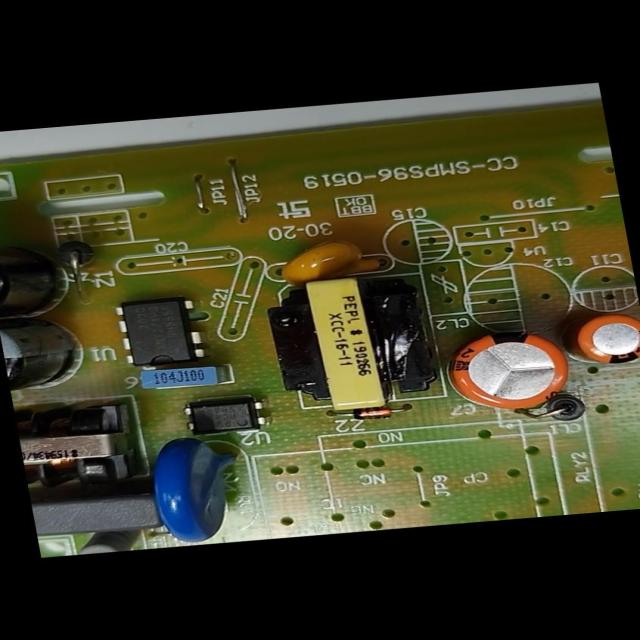Cap1: (437, 323, 581, 418)
Cap2: (561, 306, 639, 375)
Cap3: (0, 310, 93, 405)
Cap4: (0, 234, 69, 326)
MOSFET: (100, 289, 216, 376)
Mov: (138, 427, 260, 548)
Resistor: (70, 522, 146, 554)
Transformer: (256, 262, 452, 425), (12, 392, 164, 501)
